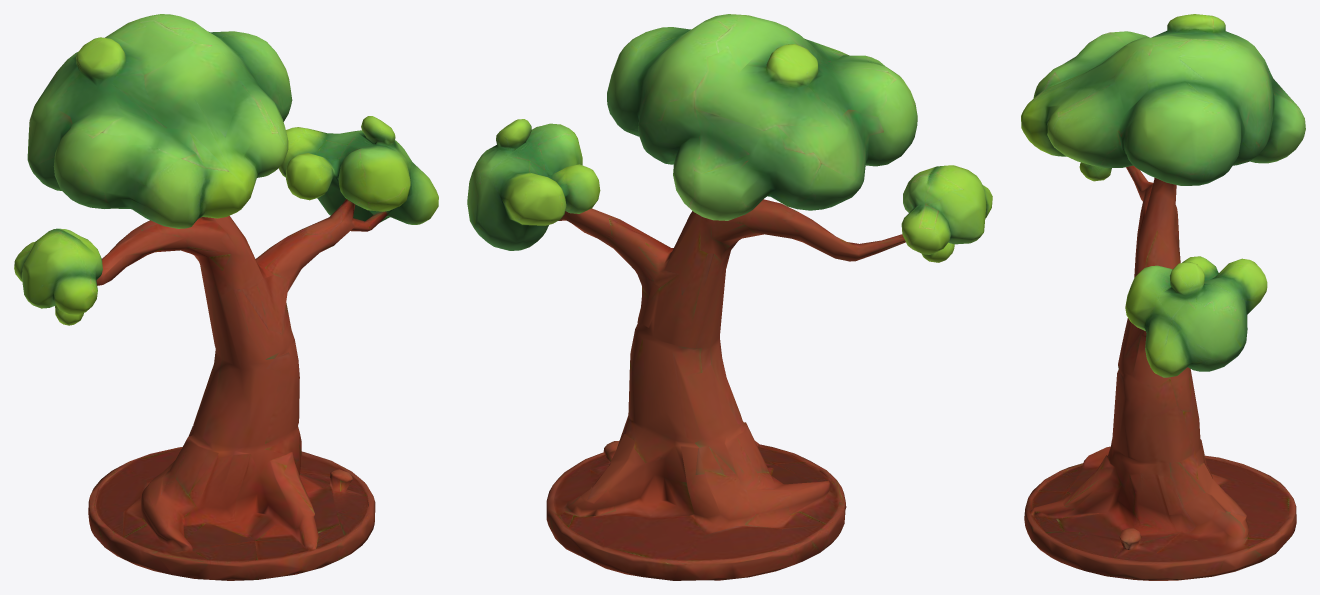
File: tree-a-512.glb
3 views of the same model, side by side, from view 1: azimuth 30°, elevation 25°; view 2: azimuth 150°, elevation 25°; view 3: azimuth 270°, elevation 25° (orthographic). The views are drawn at different scales.
Size of the model in its own units: 1.81 by 1.9 by 1.06.
Materials: 1 (1 with a texture image).
